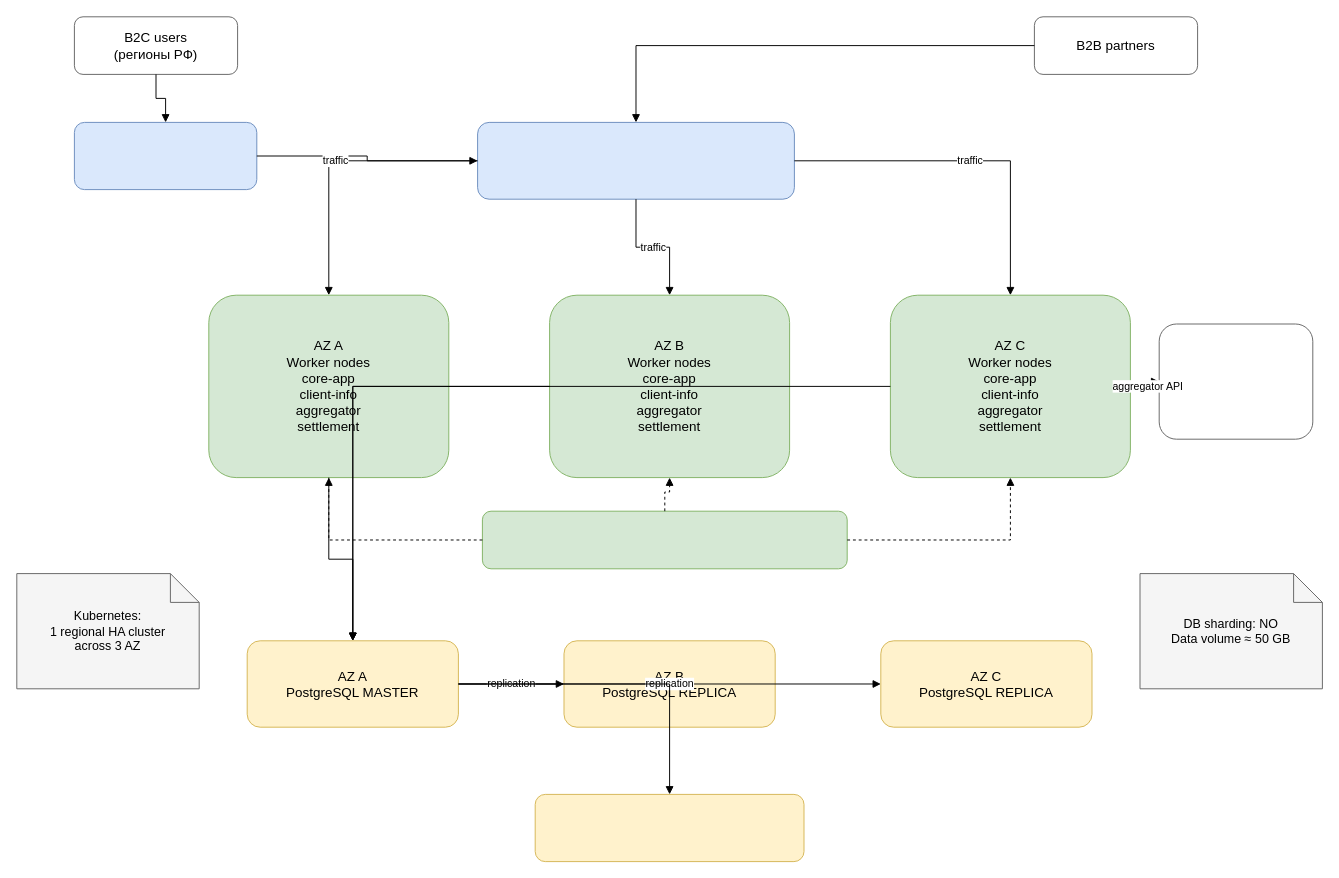
The diagram is 1339 pixels wide and 878 high, and some of its shapes have lost their labels. The box of each missing label's shape, as (x1, y1, x2, y2) in pixels:
5 Insurance Companies: (1158, 323, 1313, 439)
Application Load Balancer TLS + routing + health checks: (477, 121, 794, 199)
Cloud CDN static frontend: (73, 121, 257, 190)
HPA + Cluster Autoscaler replicas distributed across AZ: (481, 510, 847, 569)
WAL + Automated Backup + PITR: (534, 793, 804, 862)
